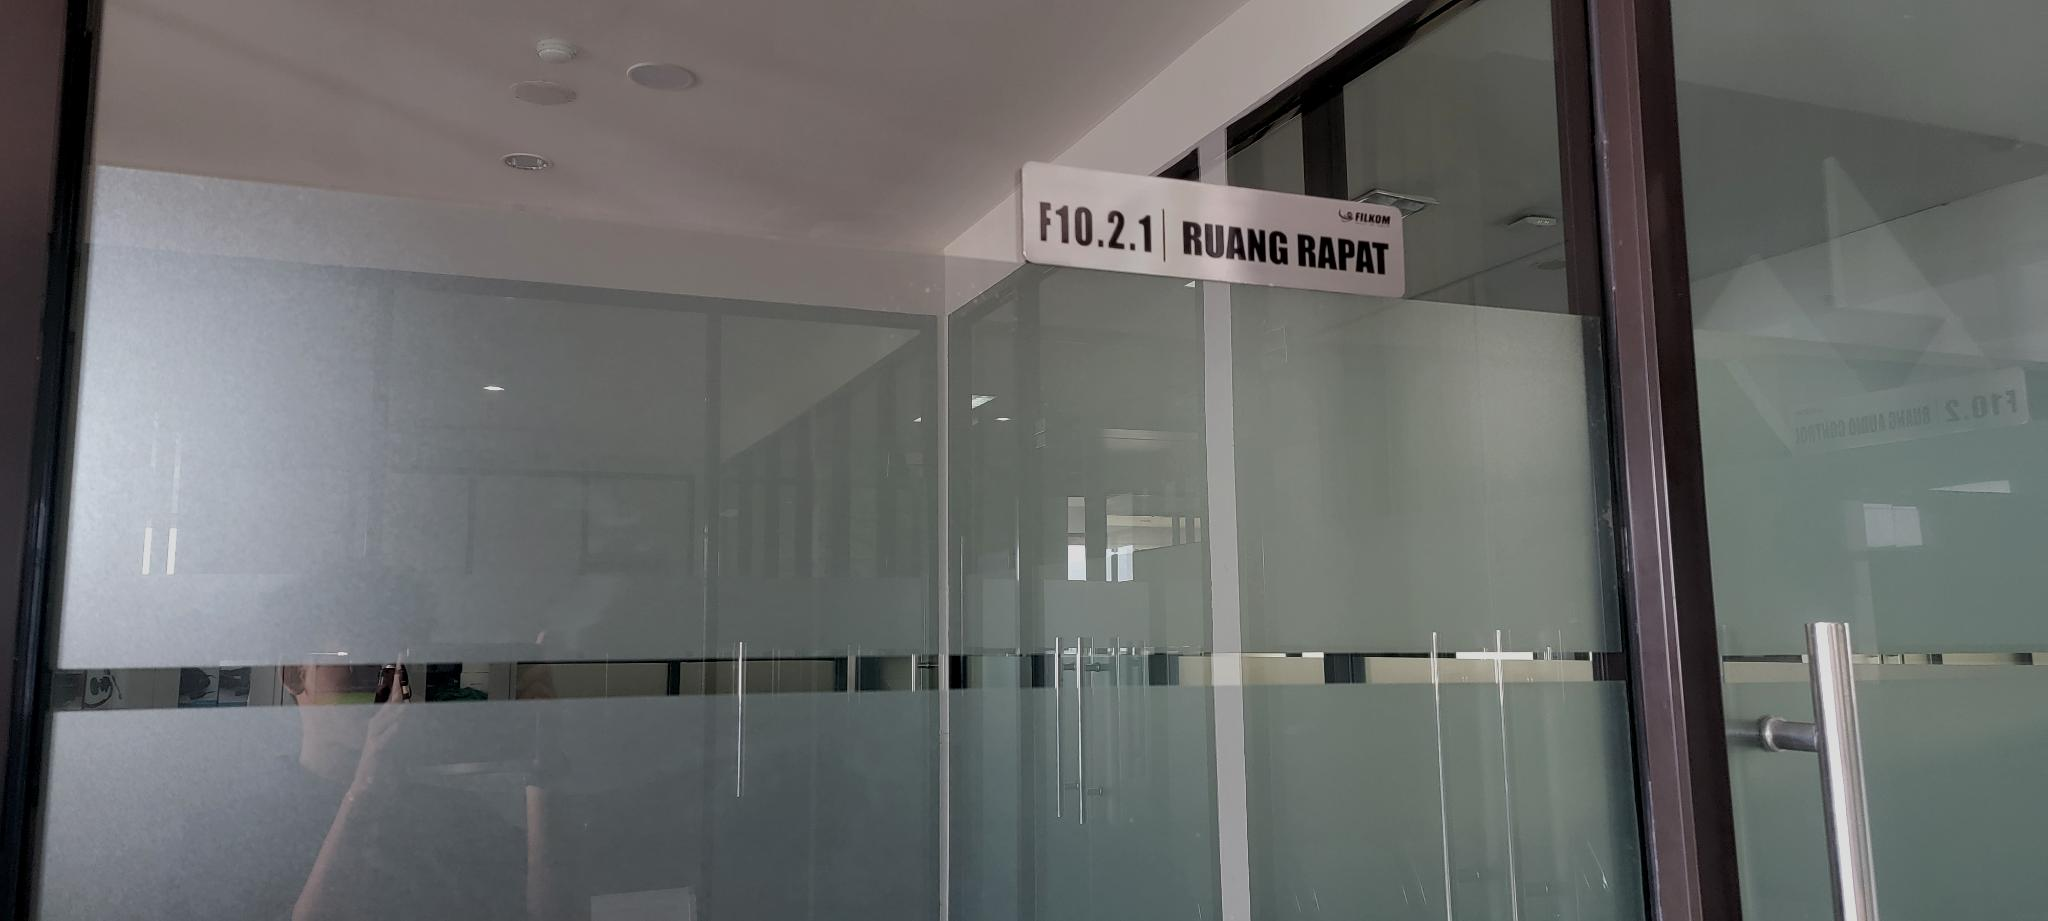plate: (1021, 158, 1405, 298)
